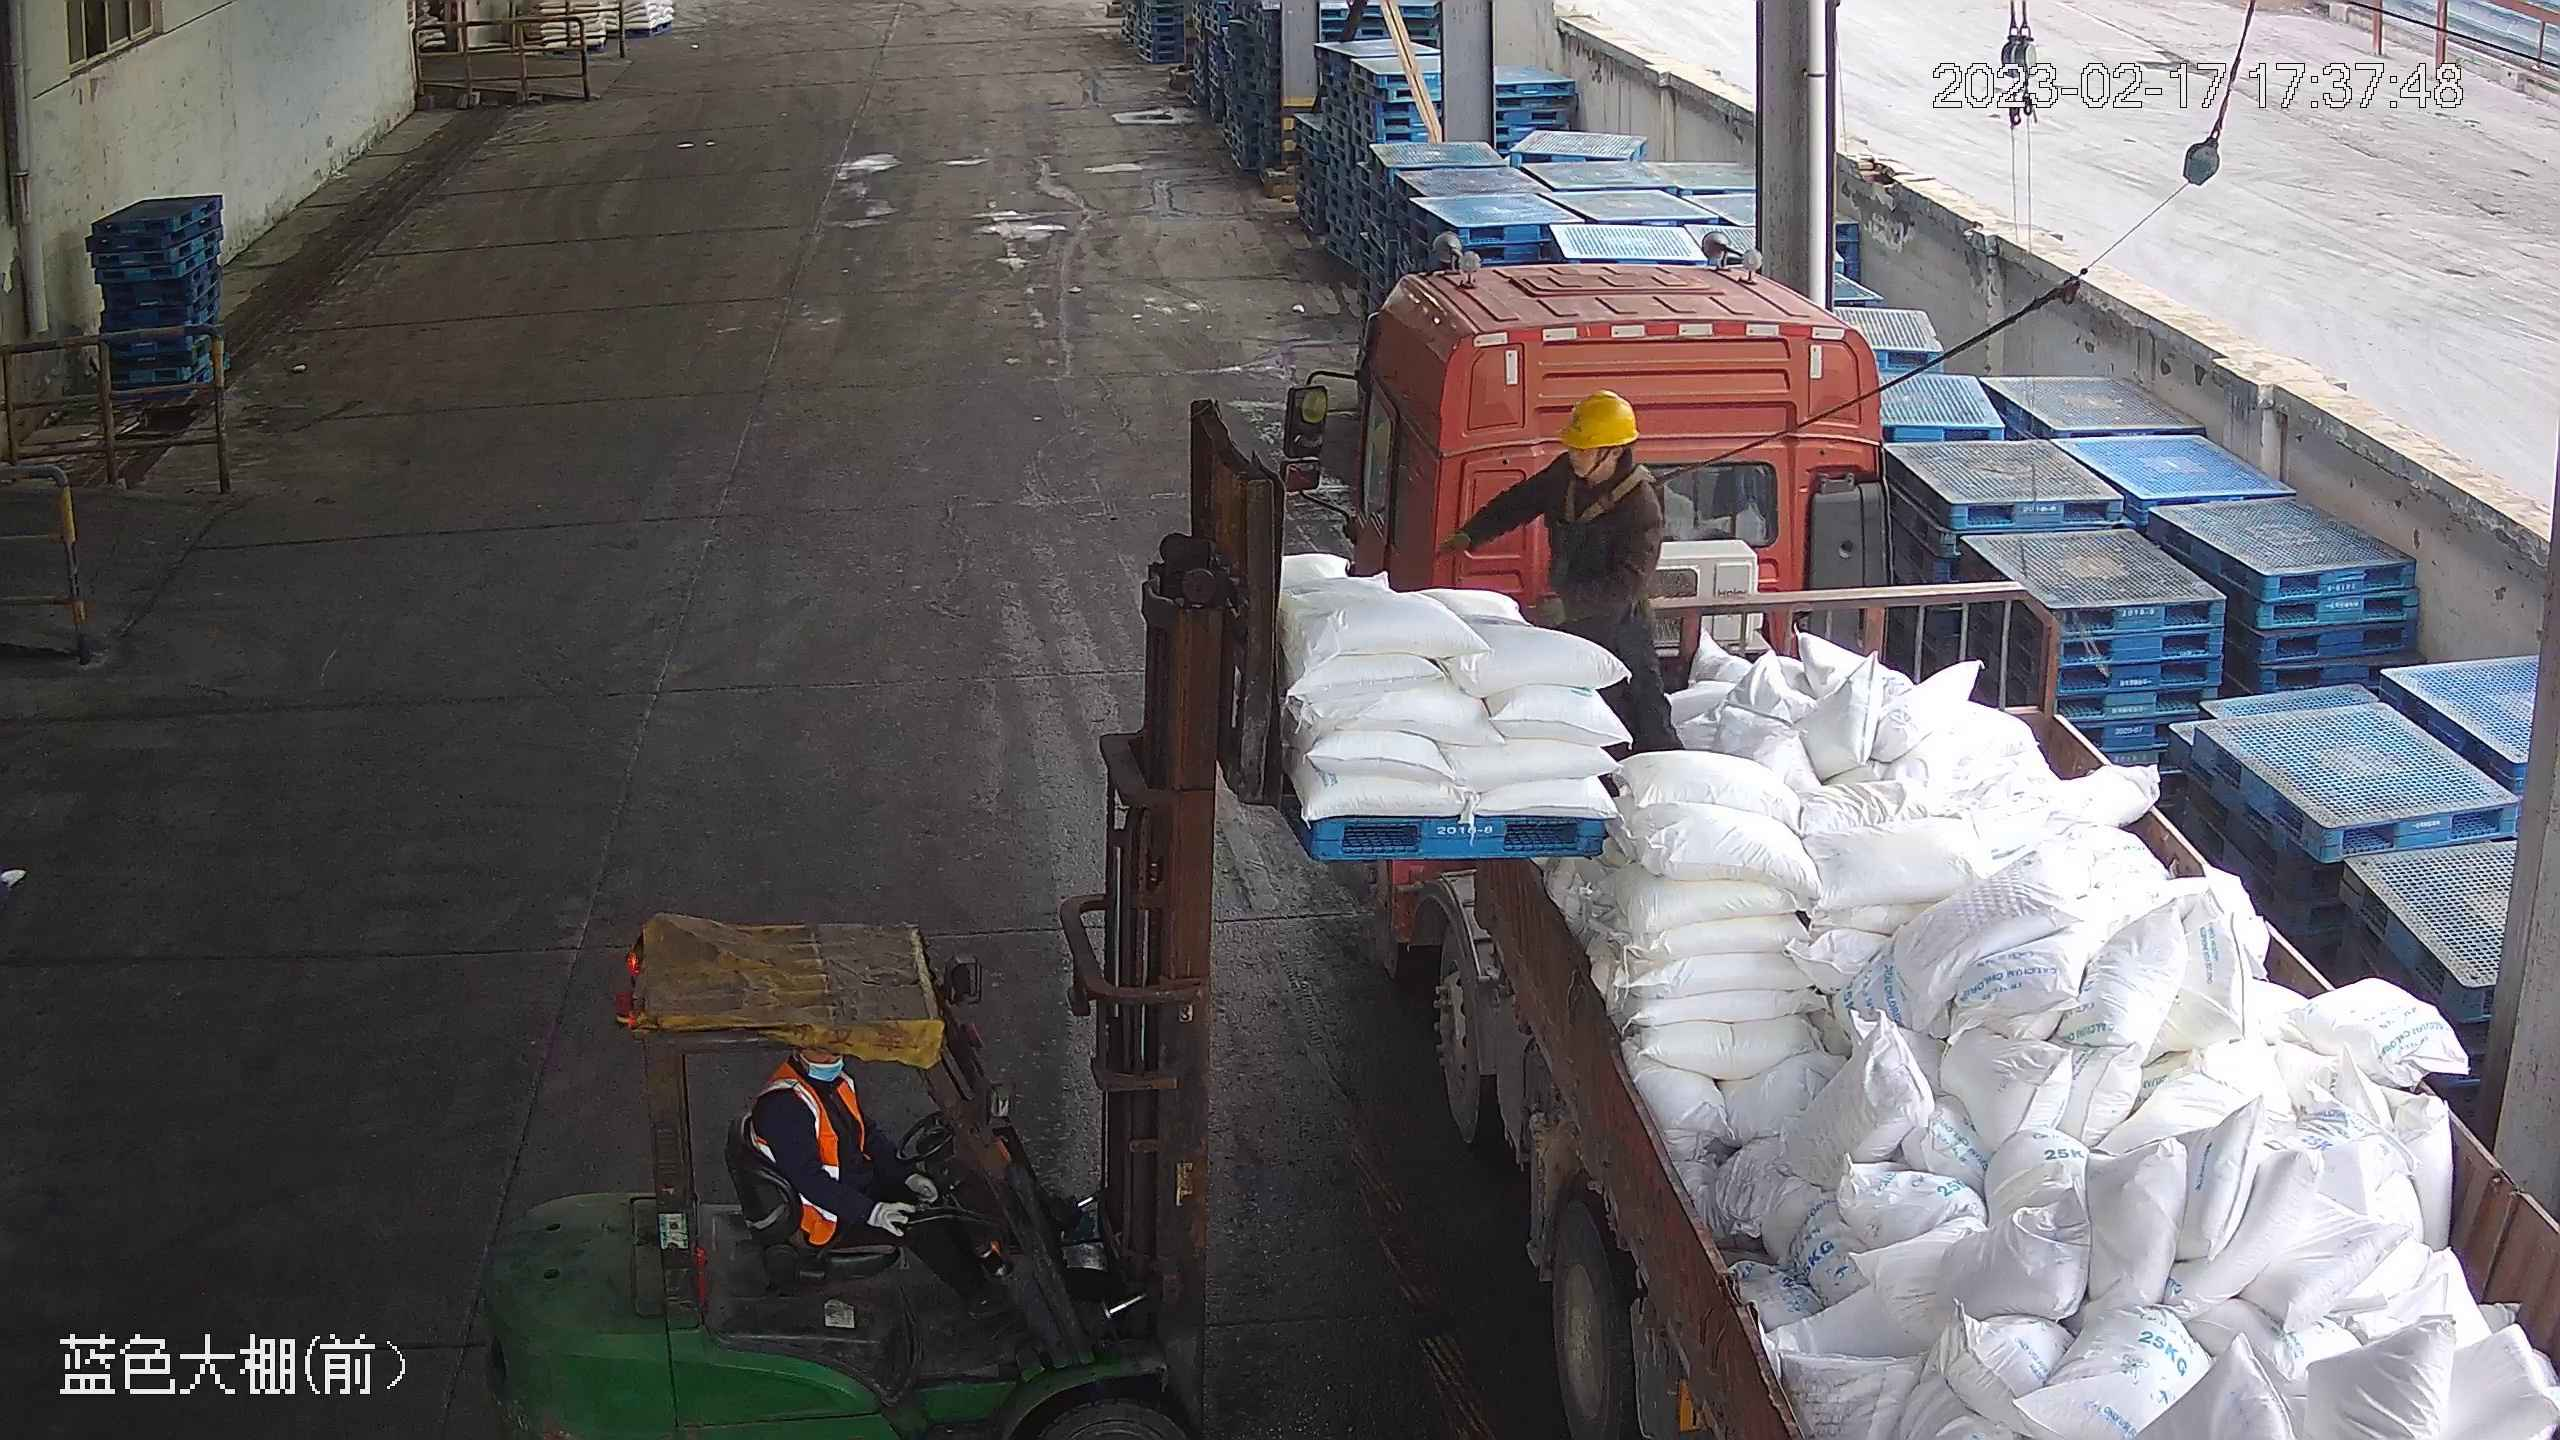belt: (1554, 460, 1667, 524)
head: (1521, 386, 1667, 530)
helmet: (1554, 385, 1642, 451)
people: (1434, 385, 1687, 768), (744, 1044, 1026, 1339)
truck: (1147, 212, 2559, 1435)
